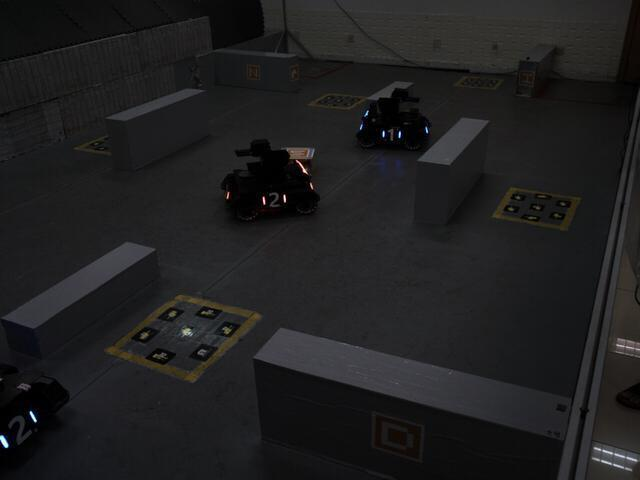armor: (0, 409, 41, 453), (256, 188, 293, 208), (378, 126, 404, 143)
